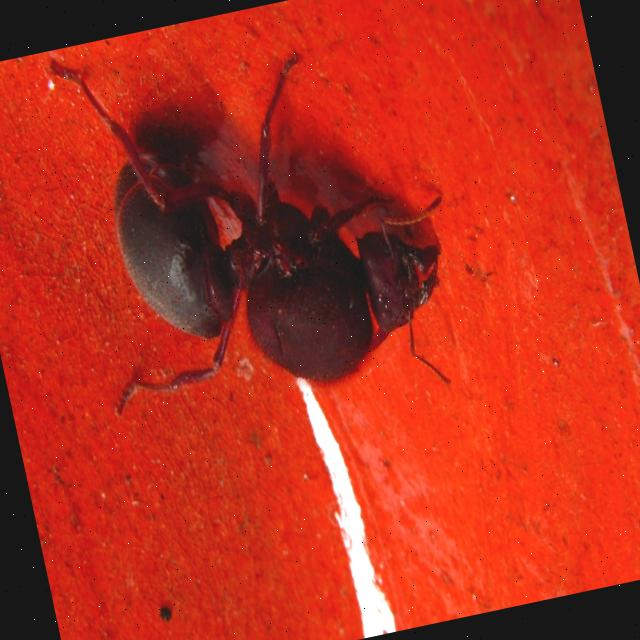Alive-Female-Dealate: (37, 0, 481, 455)
